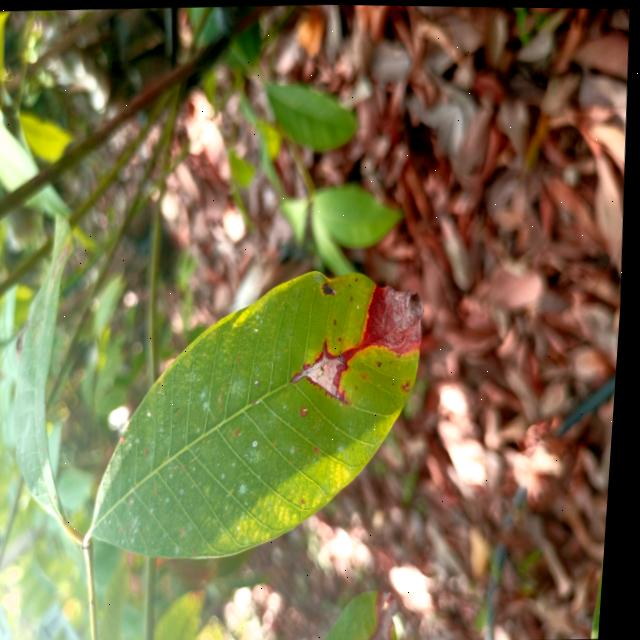Corynespora: (310, 375, 355, 403)
Leaf-Blight: (362, 282, 431, 357), (298, 346, 351, 395)
